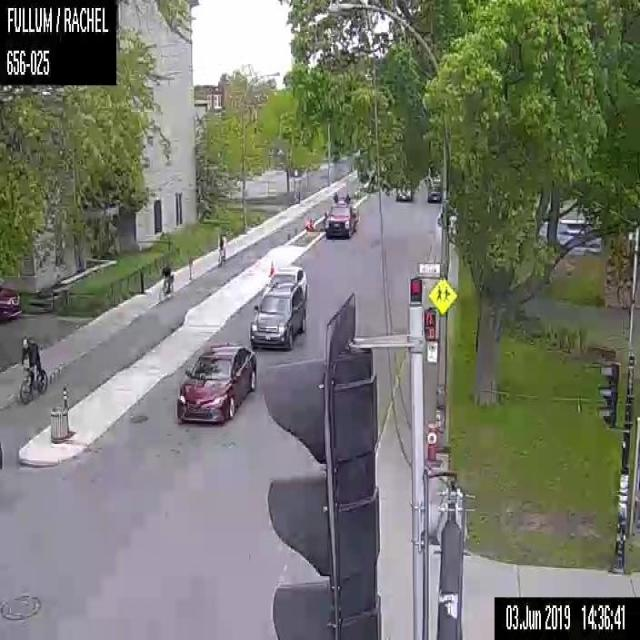construction: (268, 258, 274, 276)
cyclist: (19, 335, 47, 404), (158, 261, 173, 301), (217, 232, 226, 267)
vehicle: (176, 341, 256, 422), (249, 281, 306, 349), (262, 265, 306, 299), (324, 200, 357, 238), (0, 286, 21, 318), (395, 188, 412, 200), (427, 187, 440, 202), (430, 174, 440, 186)
